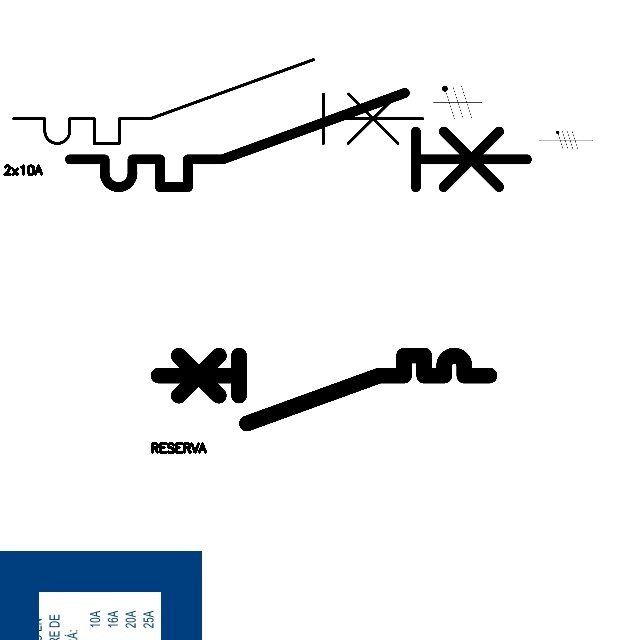interruptor_termomagnetico: (58, 81, 539, 199), (3, 49, 433, 154), (150, 347, 498, 432)
